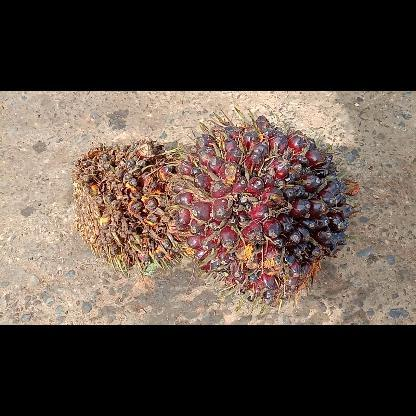Kurang masak: (168, 108, 354, 316)
TBS abnormal: (70, 139, 188, 279)
